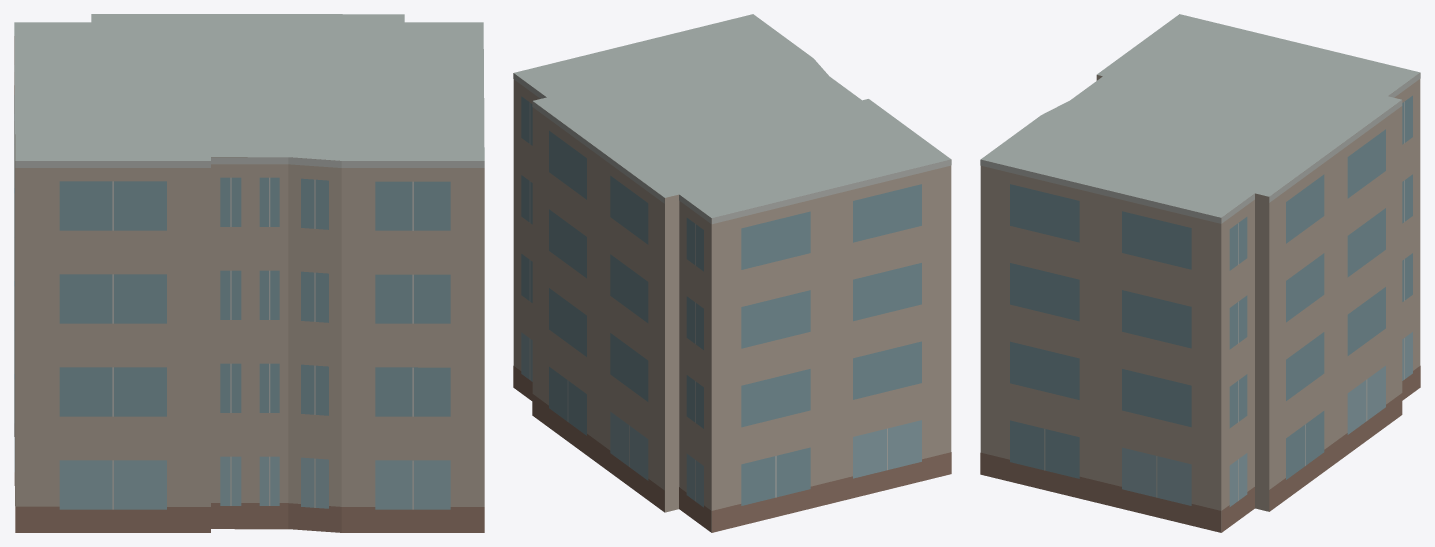
The model's file is survey-upis-32709504.glb.
3 views of the same model, side by side, from view 1: azimuth 30°, elevation 25°; view 2: azimuth 150°, elevation 25°; view 3: azimuth 270°, elevation 25° (orthographic). The views are drawn at different scales.
Visible parts, largest first — view 1: survey-upis-32709504.tmp; view 2: survey-upis-32709504.tmp; view 3: survey-upis-32709504.tmp.
Boxes of the visible parts, left/top/right/bottom form: survey-upis-32709504.tmp: left=14, top=14, right=484, bottom=532; survey-upis-32709504.tmp: left=513, top=14, right=951, bottom=532; survey-upis-32709504.tmp: left=980, top=14, right=1420, bottom=532.
Size of the model in its own units: 17.49 by 12.6 by 15.95.
